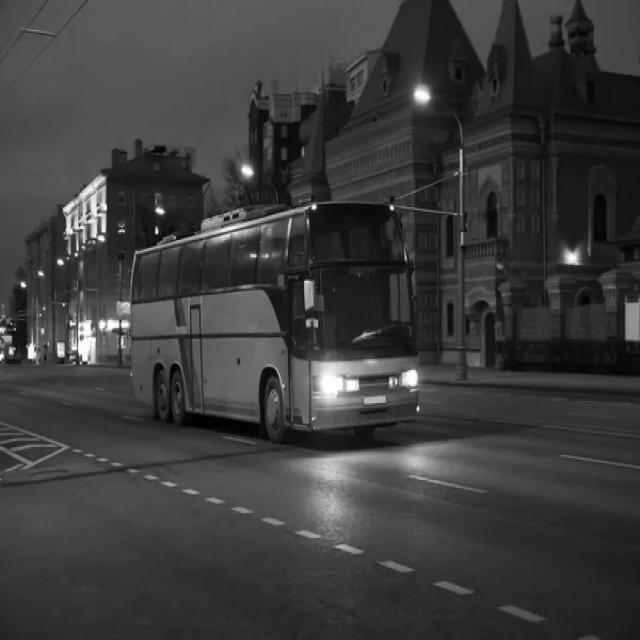Bus: (131, 200, 420, 442)
